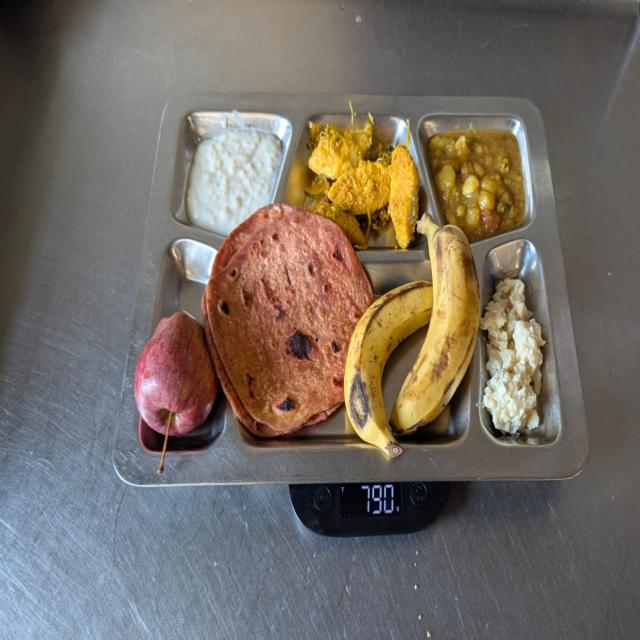Aloo Matar: (426, 122, 529, 234)
Apple: (135, 313, 215, 440)
Banana: (348, 223, 482, 457)
Chapati: (202, 206, 342, 431)
Egg Bhurji: (481, 275, 551, 441)
Porridge: (184, 124, 281, 220)
